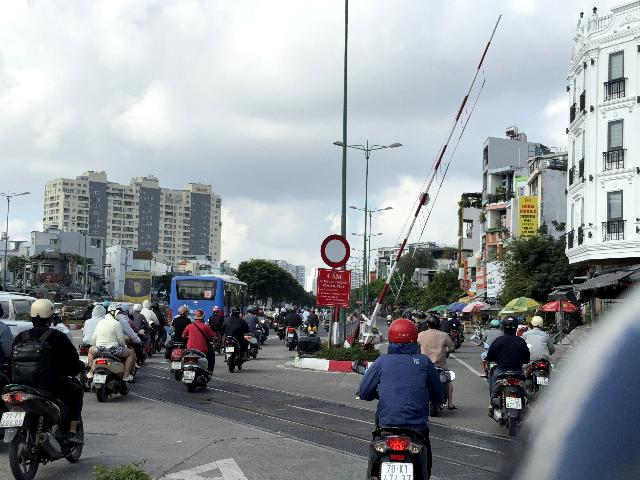duong-cam: (320, 234, 350, 268)
